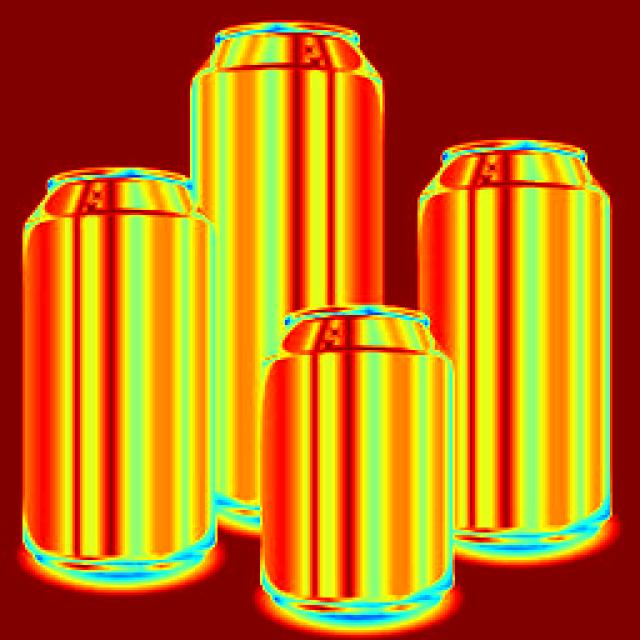Aluminium Food Cans: (11, 11, 616, 612)
